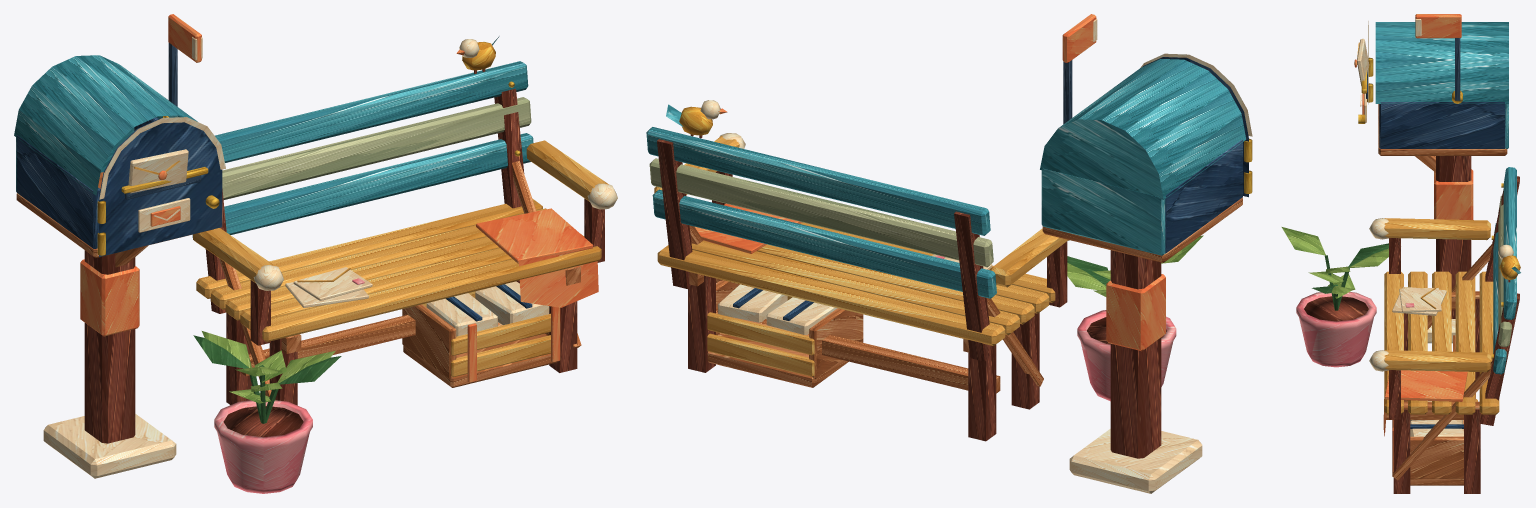
File: oil_handpaint_mailbox_bench_editable_parts.glb
The picture shows the model from 3 angles, left to right: view 1: azimuth 30°, elevation 25°; view 2: azimuth 150°, elevation 25°; view 3: azimuth 270°, elevation 25°; orthographic projection. The views are drawn at different scales.
Visible parts, largest first — view 1: 018 Broad painted bench back slat 3, 017 Broad painted bench back slat 2, 016 Broad painted bench back slat 1, 055 Operable mailbox broad front door, 007 Usable bench seat slat 1, 039 Mailbox substantial timber post, 089 Pink ground herb planter, 044 Mailbox left side shell, 038 Mailbox broad stone-colored shoe, 011 Usable bench seat slat 5, 087 Coral seat corner cloth, 040 Mailbox painted post wrap (+35 smaller); view 2: 018 Broad painted bench back slat 3, 016 Broad painted bench back slat 1, 017 Broad painted bench back slat 2, 011 Usable bench seat slat 5, 046 Mailbox rear wall, 039 Mailbox substantial timber post, 056 Mailbox rear curved cap, 038 Mailbox broad stone-colored shoe, 044 Mailbox left side shell, 010 Usable bench seat slat 4, 040 Mailbox painted post wrap, 006 Bench long low stretcher (+27 smaller); view 3: 045 Mailbox right side shell, 089 Pink ground herb planter, 048 Curved mailbox roof strip 2, 047 Curved mailbox roof strip 1, 049 Curved mailbox roof strip 3, 039 Mailbox substantial timber post, 023 Bench rounded armrest 2, 020 Bench rounded armrest 1, 010 Usable bench seat slat 4, 027 Postal crate end board 2, 087 Coral seat corner cloth, 018 Broad painted bench back slat 3 (+34 smaller).
Boxes of the visible parts, bbox=[...] form: 018 Broad painted bench back slat 3: bbox=[215, 61, 528, 162]; 017 Broad painted bench back slat 2: bbox=[222, 97, 531, 199]; 016 Broad painted bench back slat 1: bbox=[192, 133, 533, 237]; 055 Operable mailbox broad front door: bbox=[99, 118, 222, 256]; 007 Usable bench seat slat 1: bbox=[262, 246, 601, 341]; 039 Mailbox substantial timber post: bbox=[84, 250, 135, 443]; 089 Pink ground herb planter: bbox=[214, 400, 312, 493]; 044 Mailbox left side shell: bbox=[16, 135, 100, 248]; 038 Mailbox broad stone-colored shoe: bbox=[43, 414, 176, 478]; 011 Usable bench seat slat 5: bbox=[196, 198, 542, 298]; 087 Coral seat corner cloth: bbox=[476, 208, 593, 263]; 040 Mailbox painted post wrap: bbox=[80, 259, 139, 336]; 018 Broad painted bench back slat 3: bbox=[646, 127, 990, 235]; 016 Broad painted bench back slat 1: bbox=[652, 189, 996, 298]; 017 Broad painted bench back slat 2: bbox=[649, 158, 993, 267]; 011 Usable bench seat slat 5: bbox=[657, 245, 1005, 345]; 046 Mailbox rear wall: bbox=[1041, 168, 1165, 255]; 039 Mailbox substantial timber post: bbox=[1110, 250, 1161, 458]; 056 Mailbox rear curved cap: bbox=[1040, 119, 1163, 199]; 038 Mailbox broad stone-colored shoe: bbox=[1069, 429, 1202, 493]; 044 Mailbox left side shell: bbox=[1165, 139, 1242, 253]; 010 Usable bench seat slat 4: bbox=[691, 240, 1019, 335]; 040 Mailbox painted post wrap: bbox=[1106, 274, 1165, 351]; 006 Bench long low stretcher: bbox=[716, 307, 1000, 393]; 045 Mailbox right side shell: bbox=[1379, 102, 1505, 148]; 089 Pink ground herb planter: bbox=[1296, 292, 1376, 367]; 048 Curved mailbox roof strip 2: bbox=[1375, 60, 1508, 82]; 047 Curved mailbox roof strip 1: bbox=[1375, 82, 1508, 103]; 049 Curved mailbox roof strip 3: bbox=[1375, 40, 1508, 59]; 039 Mailbox substantial timber post: bbox=[1436, 156, 1471, 318]; 023 Bench rounded armrest 2: bbox=[1384, 350, 1490, 372]; 020 Bench rounded armrest 1: bbox=[1384, 218, 1490, 240]; 010 Usable bench seat slat 4: bbox=[1455, 271, 1475, 414]; 027 Postal crate end board 2: bbox=[1410, 436, 1463, 478]; 087 Coral seat corner cloth: bbox=[1385, 370, 1467, 401]; 018 Broad painted bench back slat 3: bbox=[1503, 167, 1516, 319].
Size of the model in its own units: 2.52 by 1.92 by 1.23.
3 materials, 3 textured.
